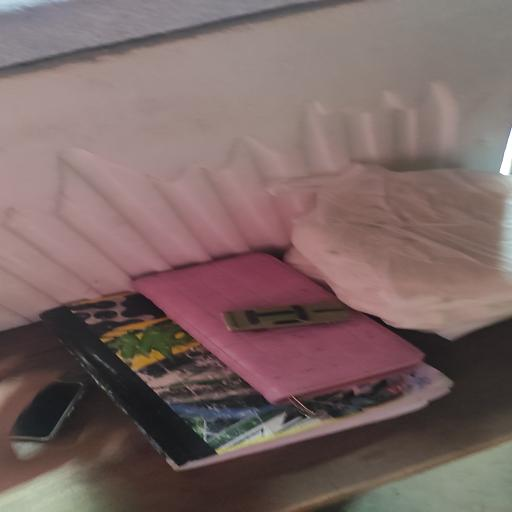Carrito: (223, 299, 350, 332)
